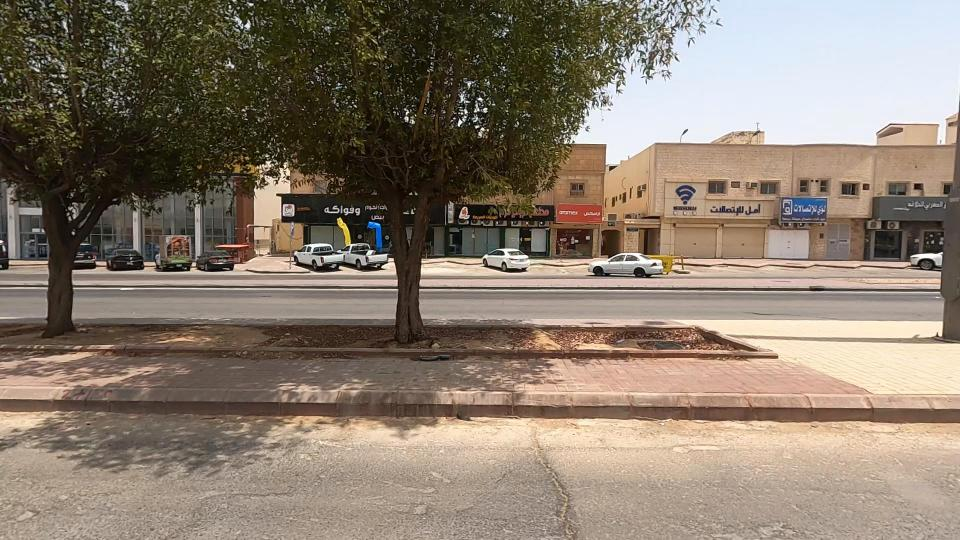CLUTTER_SIDEWALK: (345, 269, 876, 400), (91, 273, 408, 388)
